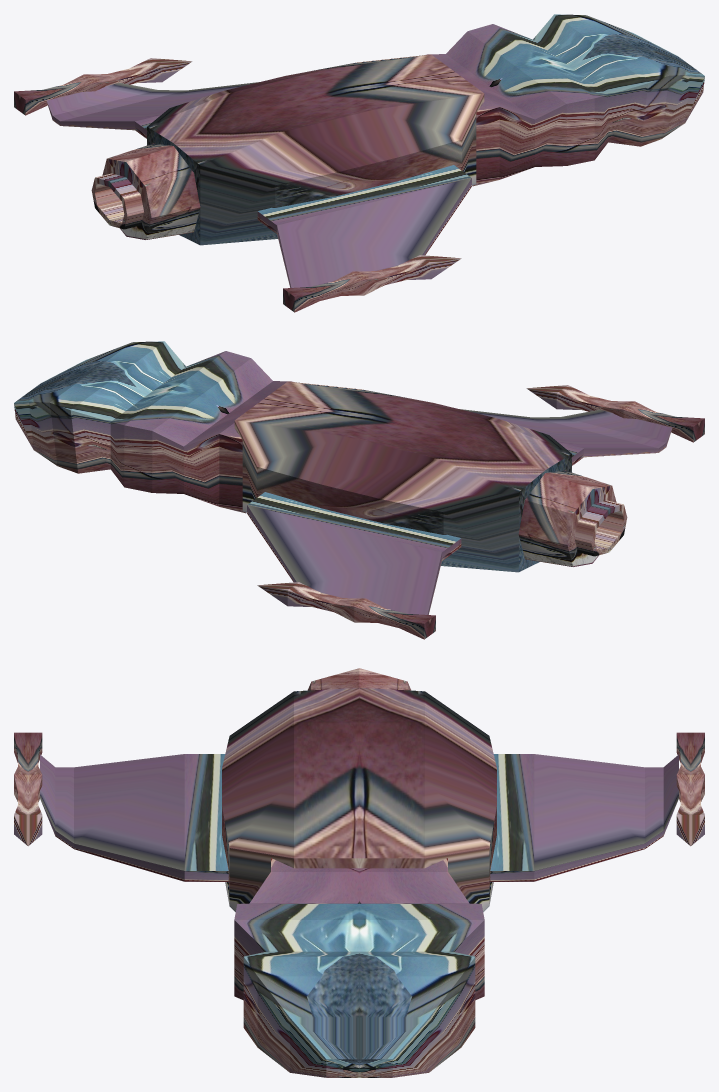
File: fighter.glb
3 renders of one model, top to bottom at view 1: azimuth 30°, elevation 25°; view 2: azimuth 150°, elevation 25°; view 3: azimuth 270°, elevation 25°, orthographic. The views are drawn at different scales.
Visible parts, largest first — view 1: M1_Ship_1; view 2: M1_Ship_1; view 3: M1_Ship_1.
Boxes of the visible parts, box(x1,y1,x2,y2) form: M1_Ship_1: box(14, 14, 704, 312); M1_Ship_1: box(14, 341, 704, 639); M1_Ship_1: box(14, 668, 704, 1077).
Bounding box in the file's own units: 26 × 4.53 × 21.72.
1 material, 1 textured.
